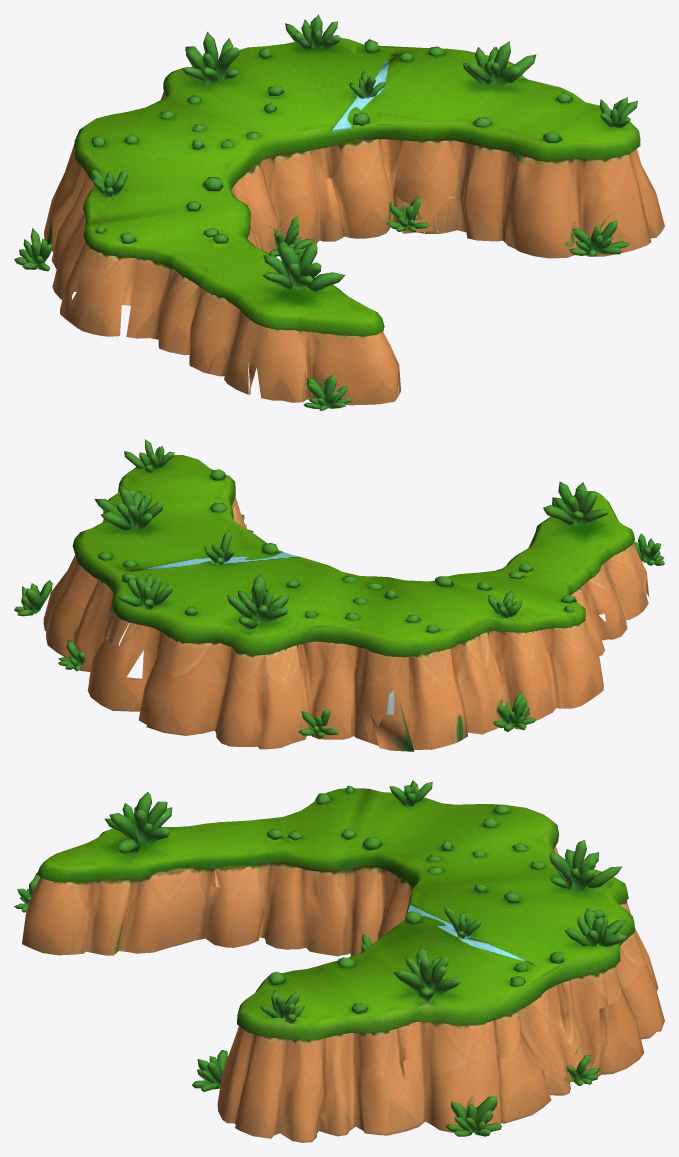
File: s2_r1c3_notched_ridge_terrain.glb
3 renders of one model, top to bottom at view 1: azimuth 30°, elevation 25°; view 2: azimuth 150°, elevation 25°; view 3: azimuth 270°, elevation 25°, orthographic. The views are drawn at different scales.
Size of the model in its own units: 0.9995 by 0.2535 by 0.9808.
1 material, 1 textured.
